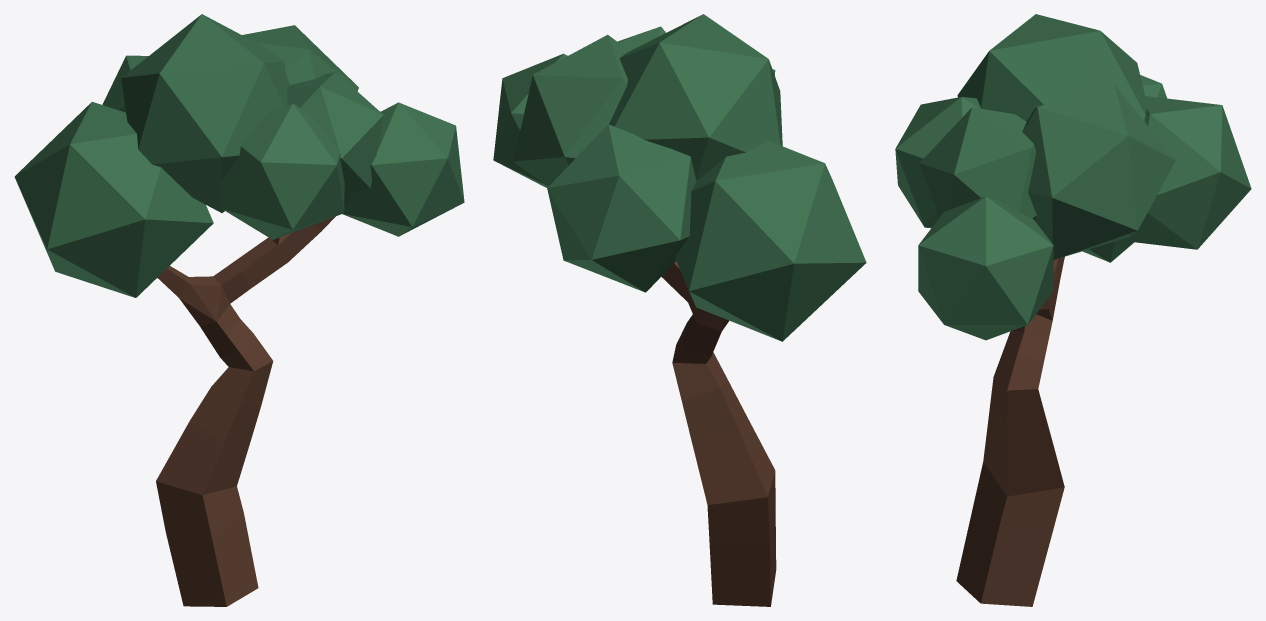
File: newer tree.glb
The picture shows the model from 3 angles, left to right: view 1: azimuth 30°, elevation 25°; view 2: azimuth 150°, elevation 25°; view 3: azimuth 270°, elevation 25°; orthographic projection. The views are drawn at different scales.
Parts seen in each view (by area): view 1: Icosphere, Cube-col; view 2: Icosphere, Cube-col; view 3: Icosphere, Cube-col.
Boxes of the visible parts, left/top/right/bottom form: Icosphere: left=14, top=14, right=464, bottom=297; Cube-col: left=156, top=216, right=335, bottom=606; Icosphere: left=493, top=14, right=866, bottom=341; Cube-col: left=661, top=261, right=776, bottom=606; Icosphere: left=895, top=14, right=1251, bottom=340; Cube-col: left=956, top=256, right=1064, bottom=606.
Size of the model in its own units: 5.44 by 7.56 by 4.17.
